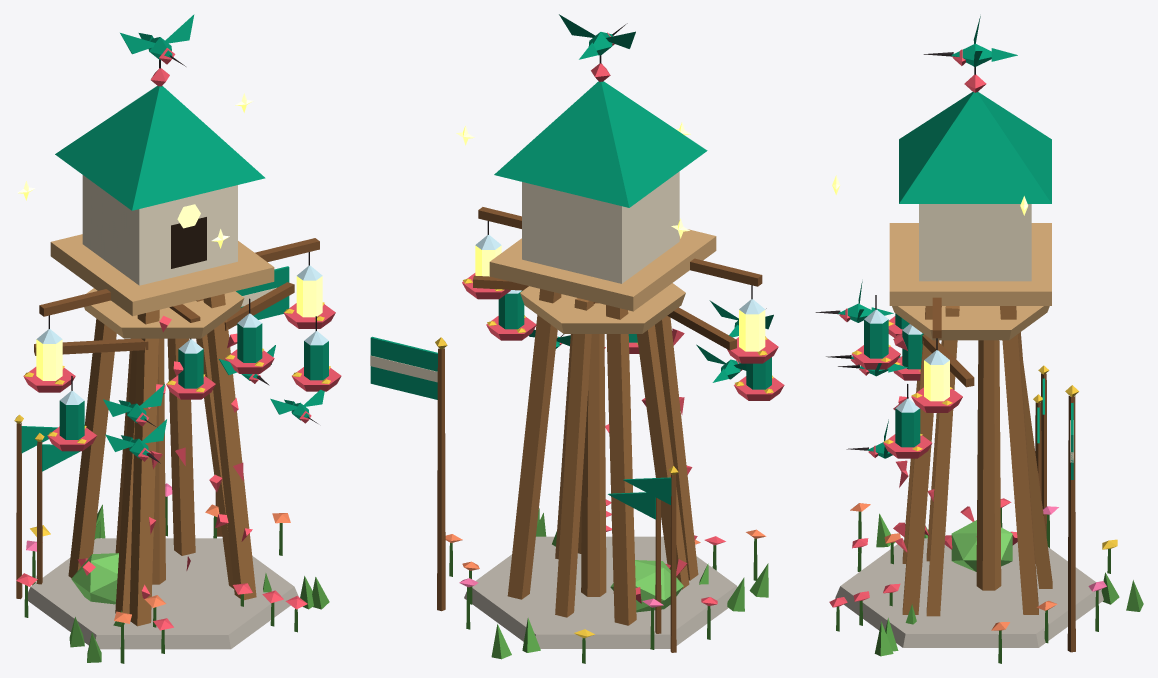
Rendered from hummingbird-feeder-tower.glb.
3 views of the same model, side by side, from view 1: azimuth 30°, elevation 25°; view 2: azimuth 150°, elevation 25°; view 3: azimuth 270°, elevation 25° (orthographic). The views are drawn at different scales.
Visible parts, largest first — view 1: lv3, lv2, lv1; view 2: lv3, lv2, lv1; view 3: lv3, lv2, lv1.
Boxes of the visible parts, x1,y1,x2,y2 form: lv3: [14, 14, 335, 663]; lv2: [26, 282, 341, 653]; lv1: [71, 304, 275, 627]; lv3: [370, 14, 778, 663]; lv2: [462, 275, 784, 652]; lv1: [552, 302, 708, 612]; lv3: [815, 16, 1143, 663]; lv2: [826, 306, 1119, 651]; lv1: [838, 324, 1017, 624].
Size of the model in its own units: 1.66 by 2.79 by 1.47.
